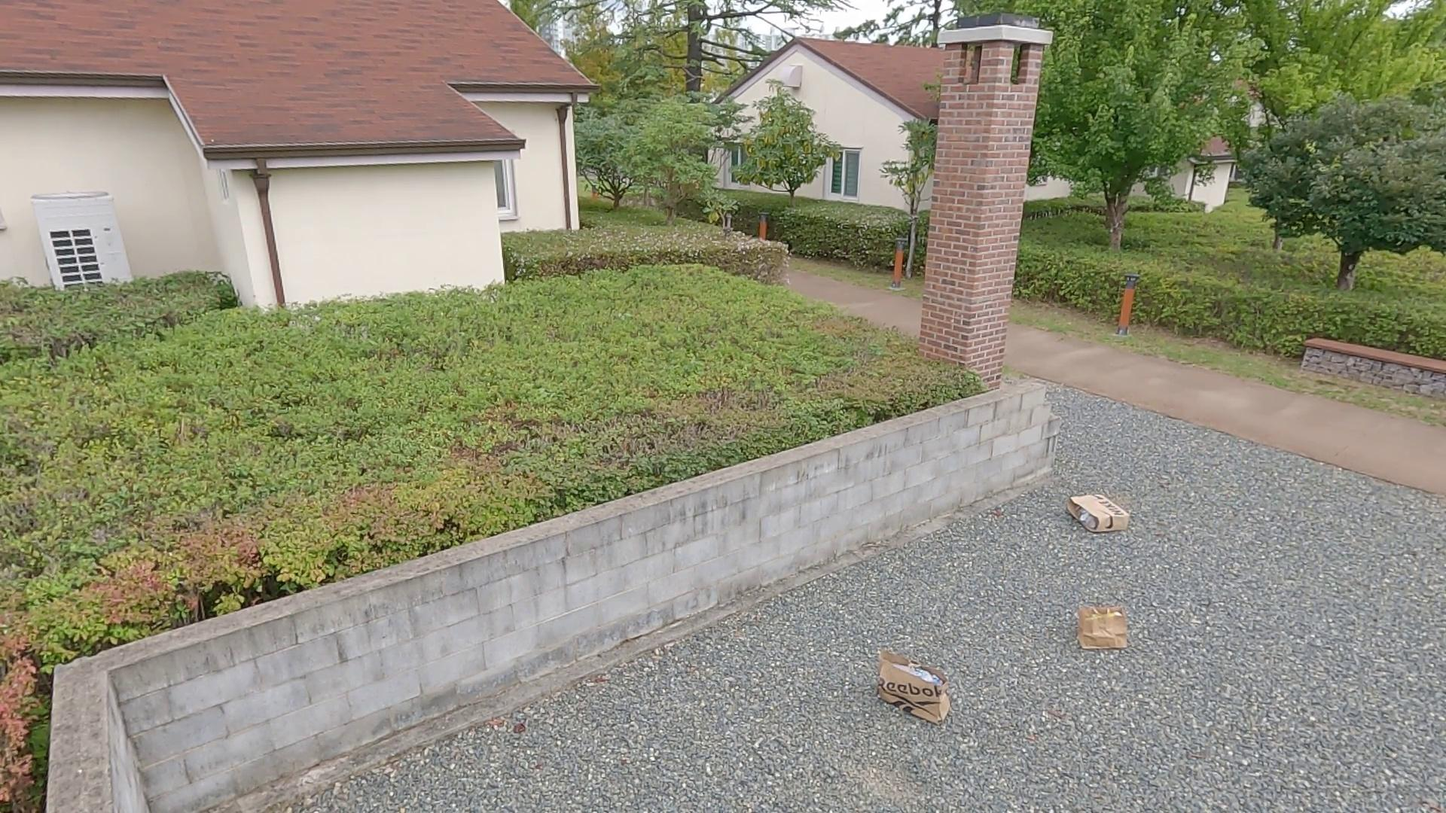trash: (871, 644, 960, 733), (1063, 482, 1147, 545), (1073, 599, 1131, 658)
